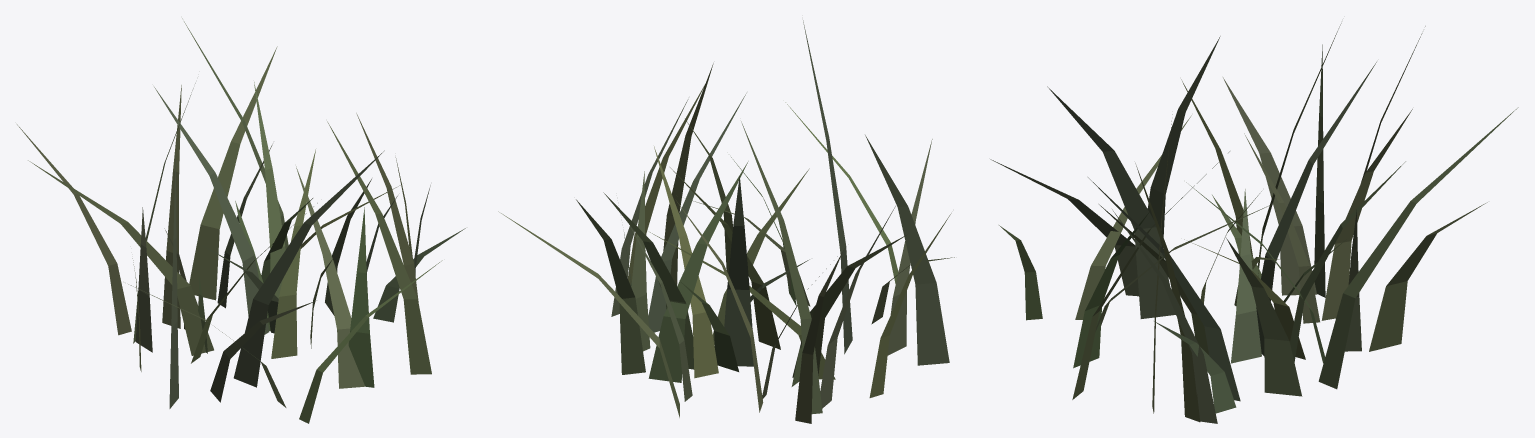
Rendered from Grass2.glb.
3 renders of one model, left to right at view 1: azimuth 30°, elevation 25°; view 2: azimuth 150°, elevation 25°; view 3: azimuth 270°, elevation 25°, orthographic. The views are drawn at different scales.
Size of the model in its own units: 0.5096 by 0.3493 by 0.5777.
